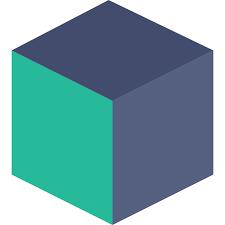cubos: (2, 0, 219, 225)
